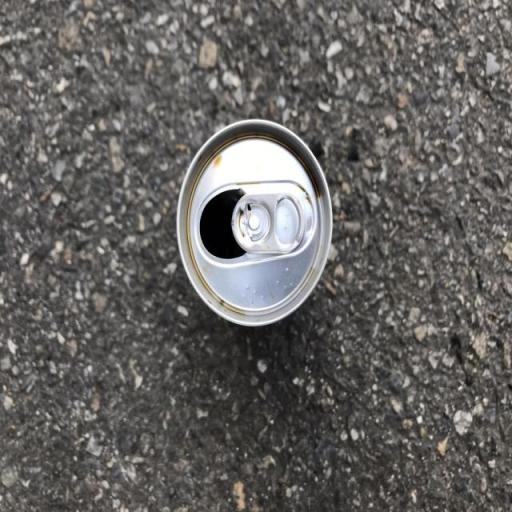metal: (150, 86, 338, 348)
